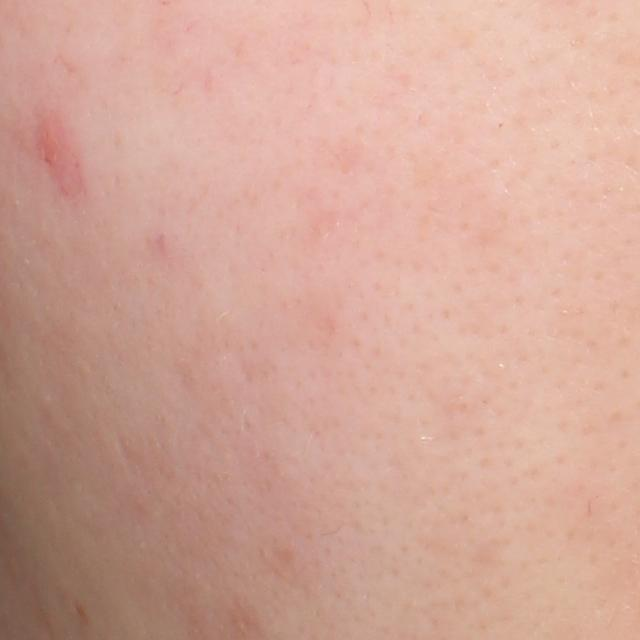papule: (34, 115, 71, 171)
